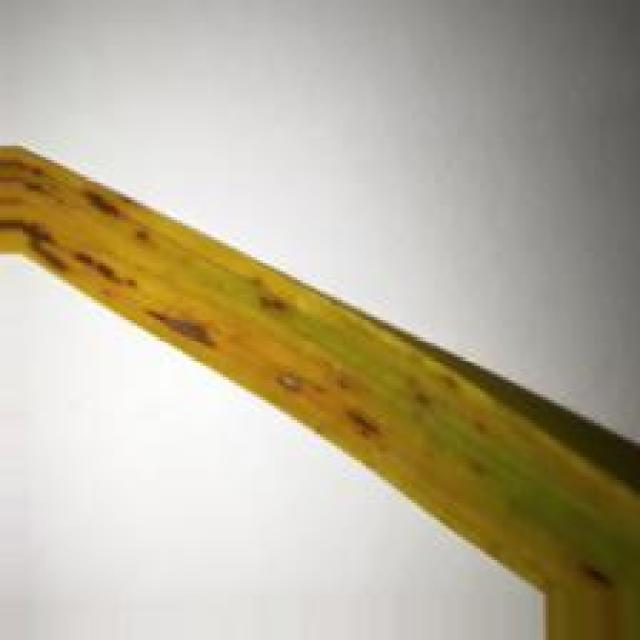Narrow_Brown_Leaf_Spot: (0, 140, 640, 640)
